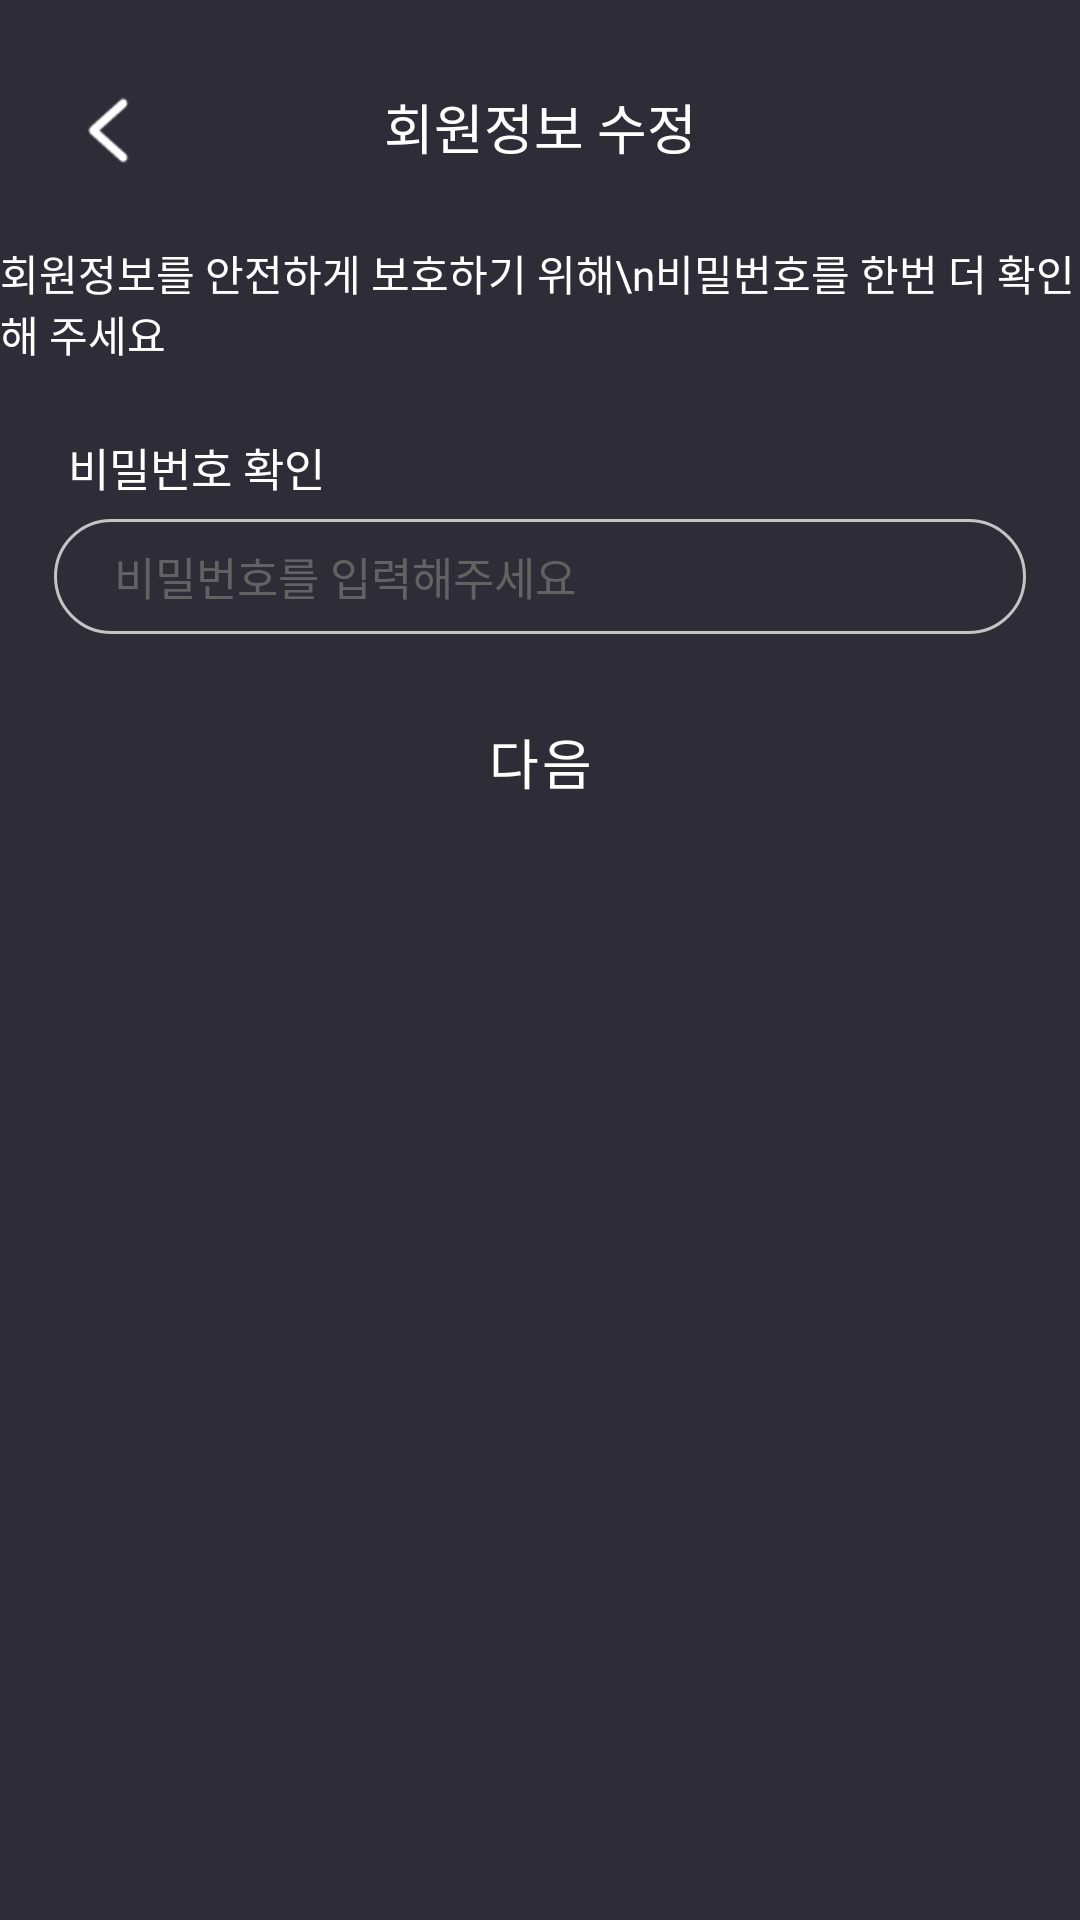

Locate icon controls on the screen. Image size 1080x1920, boxes as region(x1, y1, x2, y2).
arrow left resize: region(88, 98, 128, 163)
